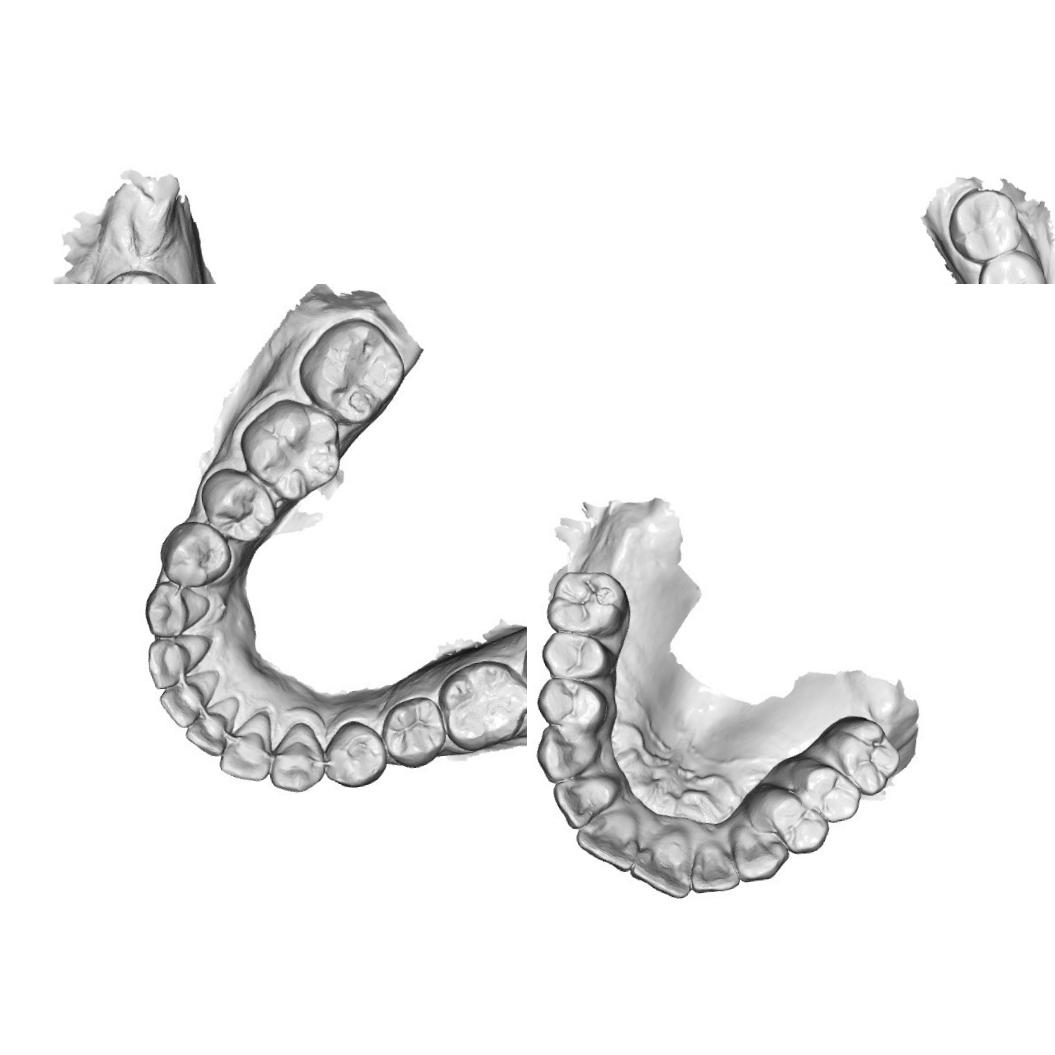canine: (528, 720, 607, 785), (264, 718, 326, 797), (142, 573, 213, 639), (728, 817, 793, 884)
incisor: (212, 713, 282, 787), (625, 836, 694, 906), (154, 668, 224, 735), (548, 772, 622, 834), (140, 630, 212, 691), (181, 697, 248, 762), (574, 811, 638, 878), (684, 839, 744, 897)
molar: (290, 312, 407, 429), (240, 388, 345, 505), (435, 654, 527, 759), (822, 712, 907, 804), (538, 564, 631, 640), (943, 184, 1027, 268), (974, 246, 1050, 284)
premolar: (198, 464, 276, 546), (159, 516, 237, 587), (380, 695, 450, 771), (797, 758, 866, 830), (762, 786, 830, 858), (533, 670, 610, 730), (322, 719, 386, 791), (537, 625, 614, 684)
